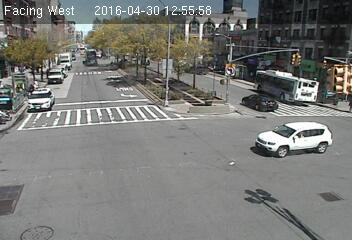neg: (136, 66, 176, 119), (113, 134, 150, 183), (9, 61, 44, 107), (237, 176, 269, 217), (90, 54, 122, 95), (273, 109, 301, 146), (277, 44, 305, 81), (44, 141, 69, 175), (53, 192, 78, 225), (190, 54, 214, 85), (235, 47, 258, 78)
